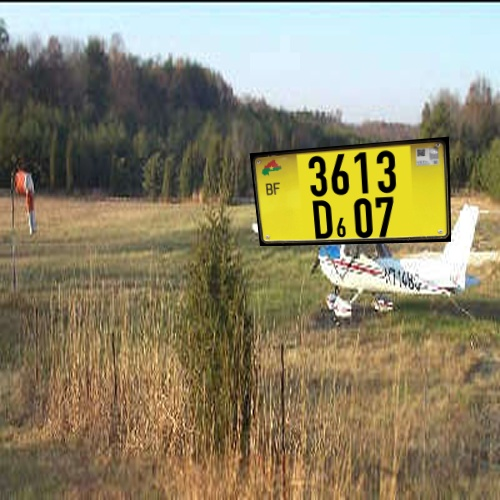plate: (239, 127, 459, 260)
